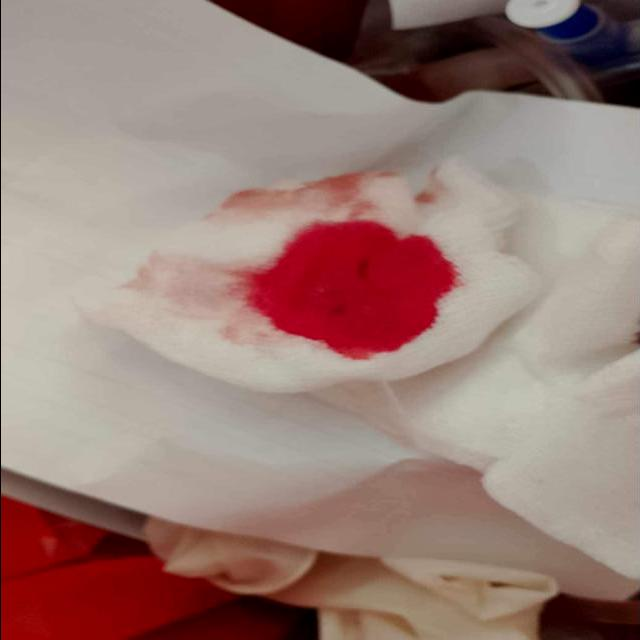General: (3, 4, 638, 634)
Infectious: (75, 157, 542, 397)
Sharps: (355, 2, 639, 81), (503, 2, 640, 79)
